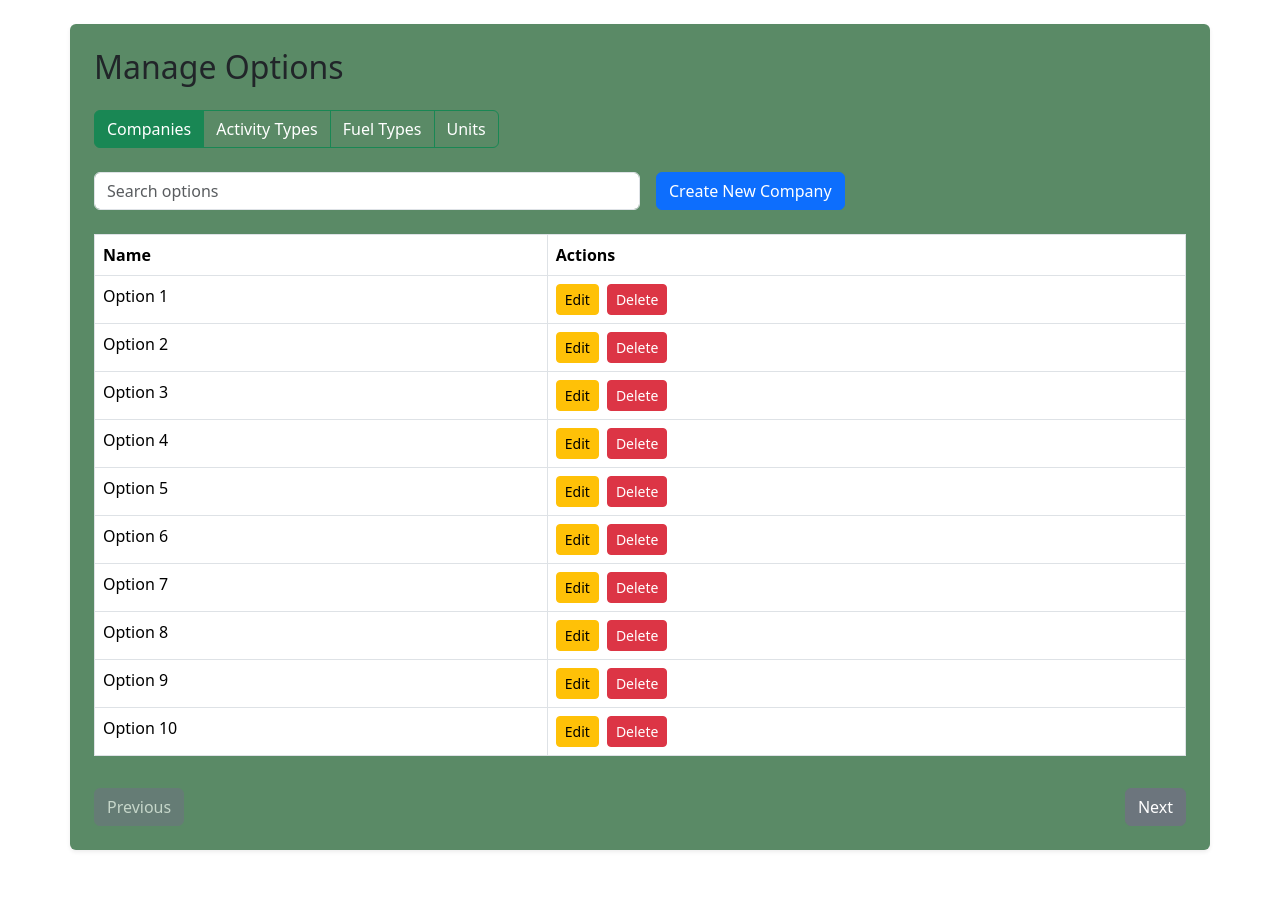
Test: ManageOptions Component › paginates options correctly
The image size is (1280, 900).
Expected: the text "Option 1" is shown, [94, 276, 547, 324]
Expected: the text "Option 11" is not shown
Click the button "Next" at x=1155, y=807, box [1125, 788, 1186, 826]
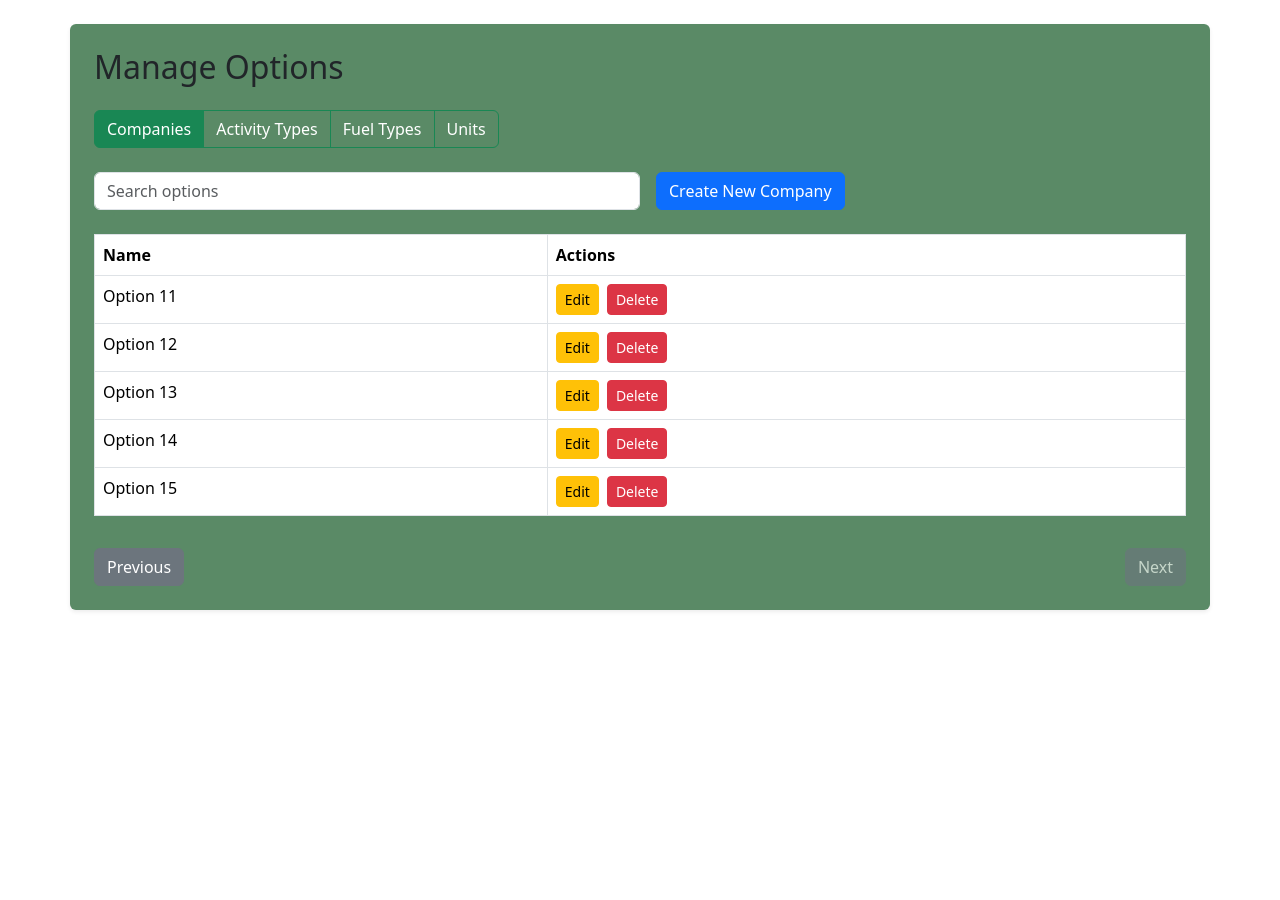
Expected: the text "Option 11" is shown, [94, 276, 547, 324]
